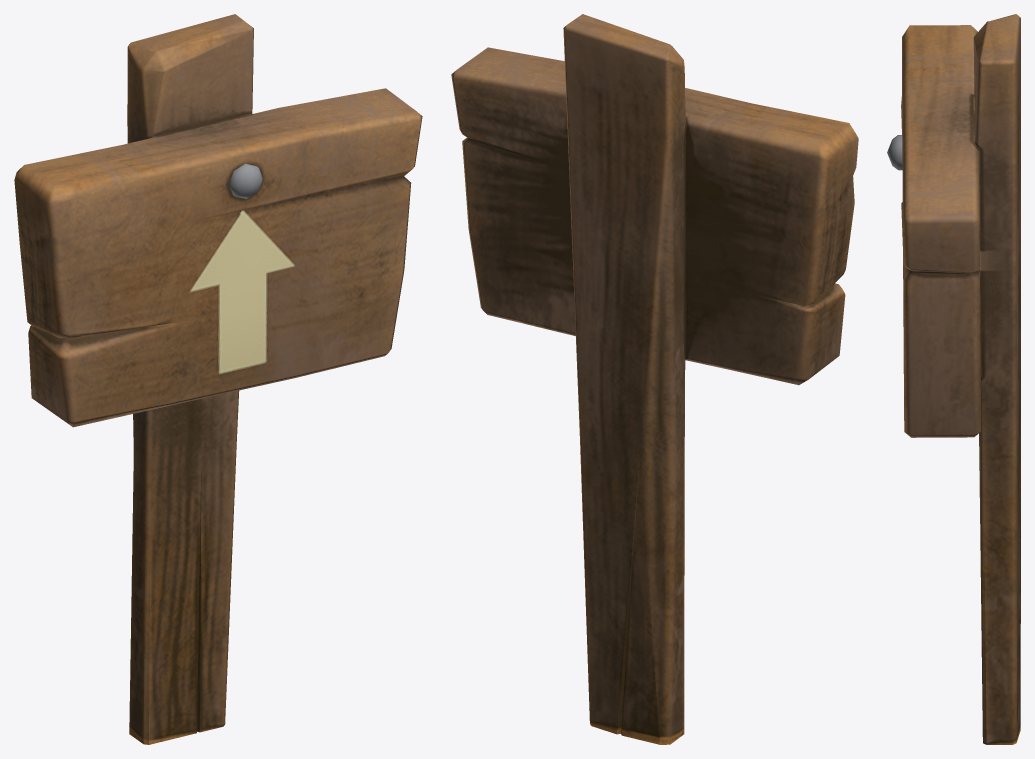
Rendered from wood_front.fbx.
3 views of the same model, side by side, from view 1: azimuth 30°, elevation 25°; view 2: azimuth 150°, elevation 25°; view 3: azimuth 270°, elevation 25° (orthographic).
Visible parts, largest first — view 1: wood_front; view 2: wood_front; view 3: wood_front.
Boxes of the visible parts, x1,y1,x2,y2 form: wood_front: [14, 14, 422, 744]; wood_front: [451, 14, 858, 744]; wood_front: [887, 14, 1020, 744].
Size of the model in its own units: 113 by 199 by 34.63.
